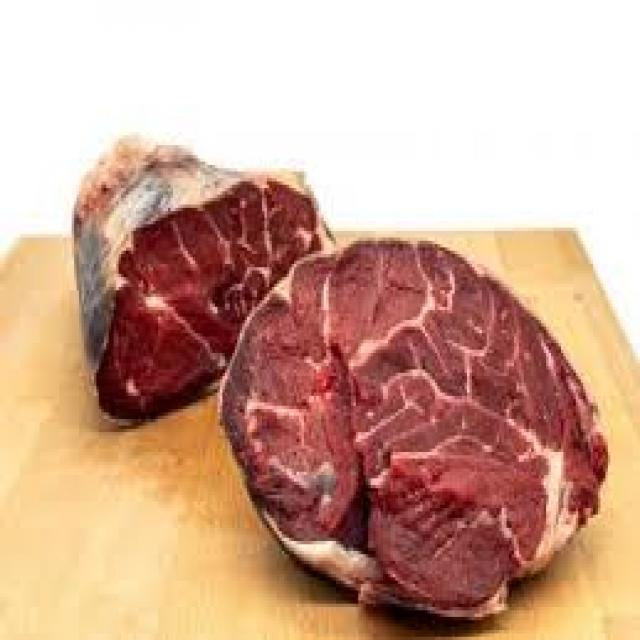Wet: (71, 113, 608, 639)
